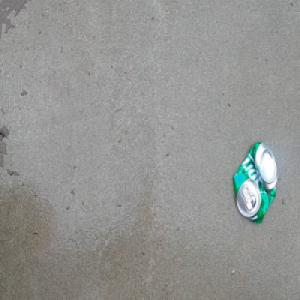SodaCan: (231, 140, 279, 227)
